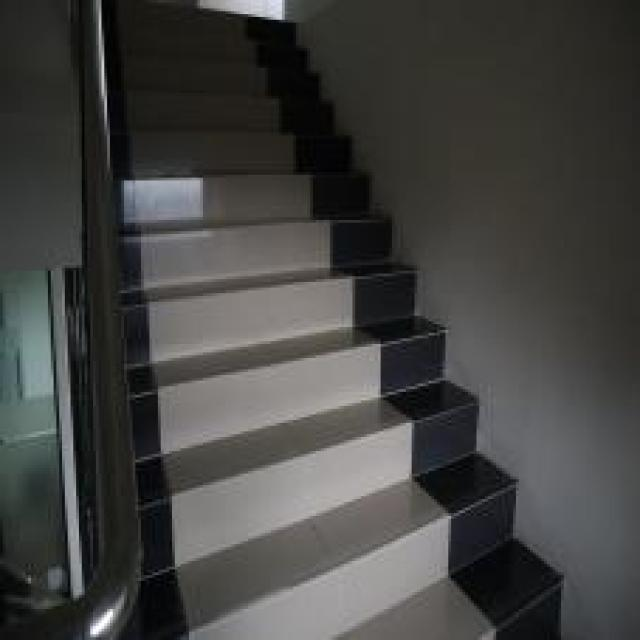upstair: (139, 133, 393, 517)
